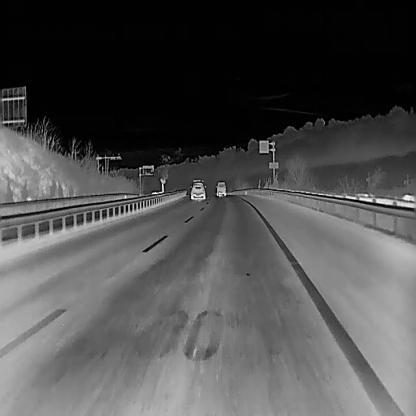car: (189, 181, 206, 200), (214, 180, 226, 196)
sign: (258, 139, 271, 156)
